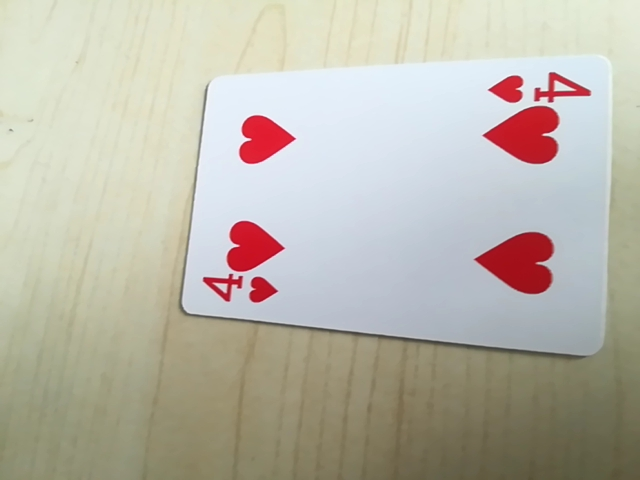hx 4: (485, 62, 594, 108), (198, 269, 283, 312)
